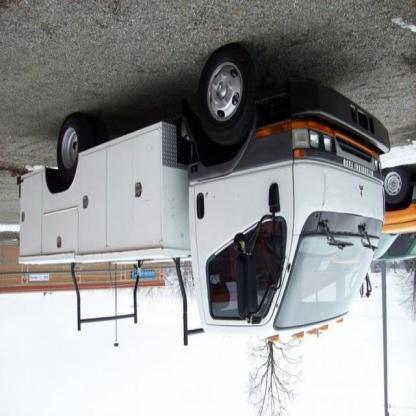truck: (19, 47, 393, 347)
